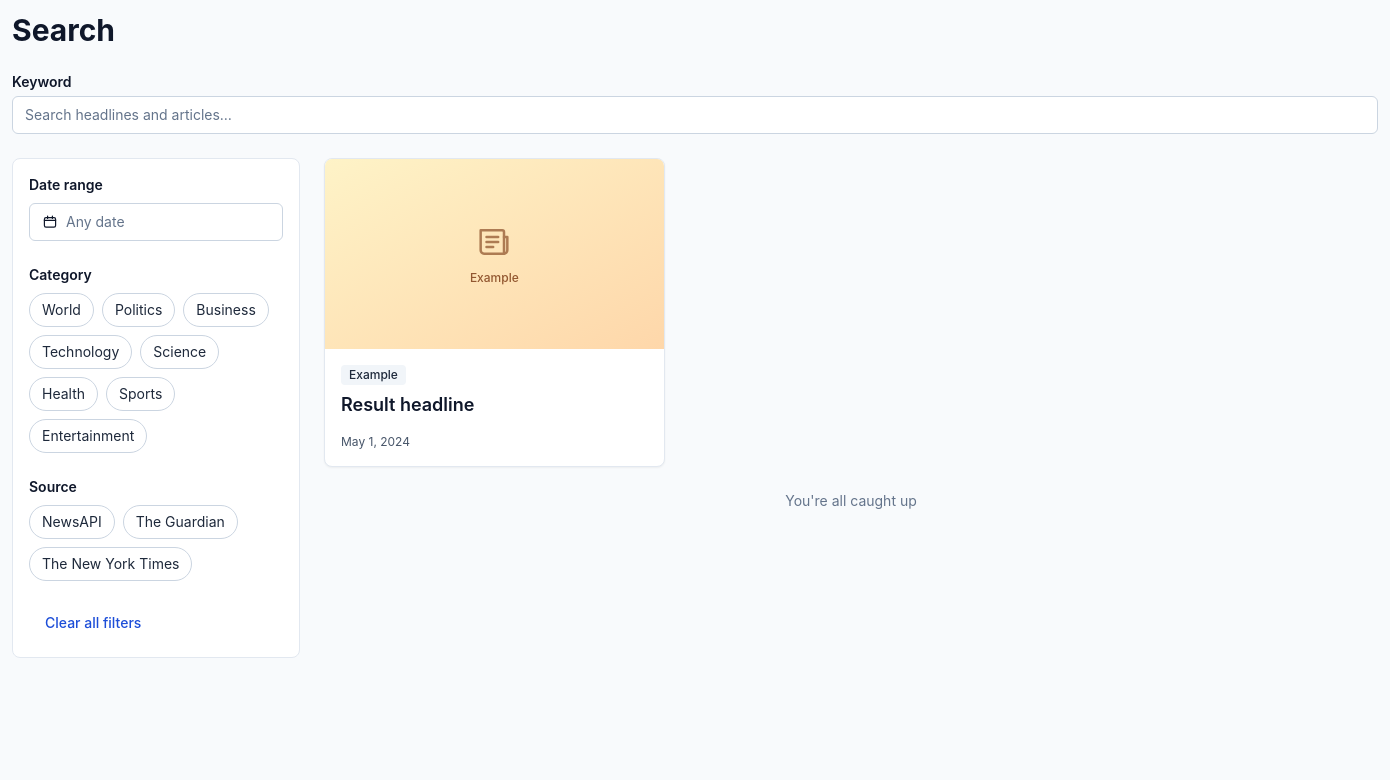
it: SearchPage › debounces the keyword into the URL and re-queries
Expected: the heading "Result headline" is shown, [341,394,648,418]
Type "chips" into the search field labelled "Keyword" at (695, 115), box [12,96,1378,134]
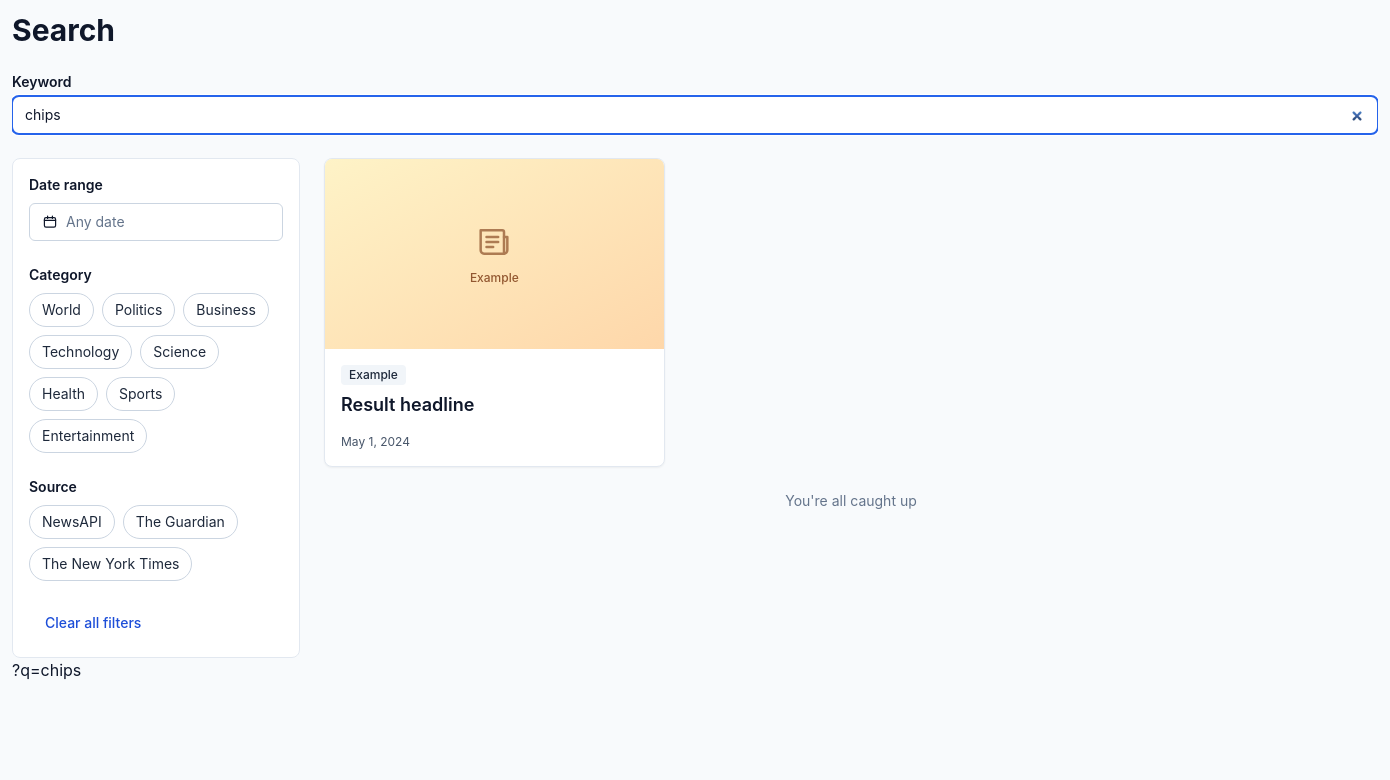
Now the text with test id "search" reads "?q=chips", box [12,660,81,680]
